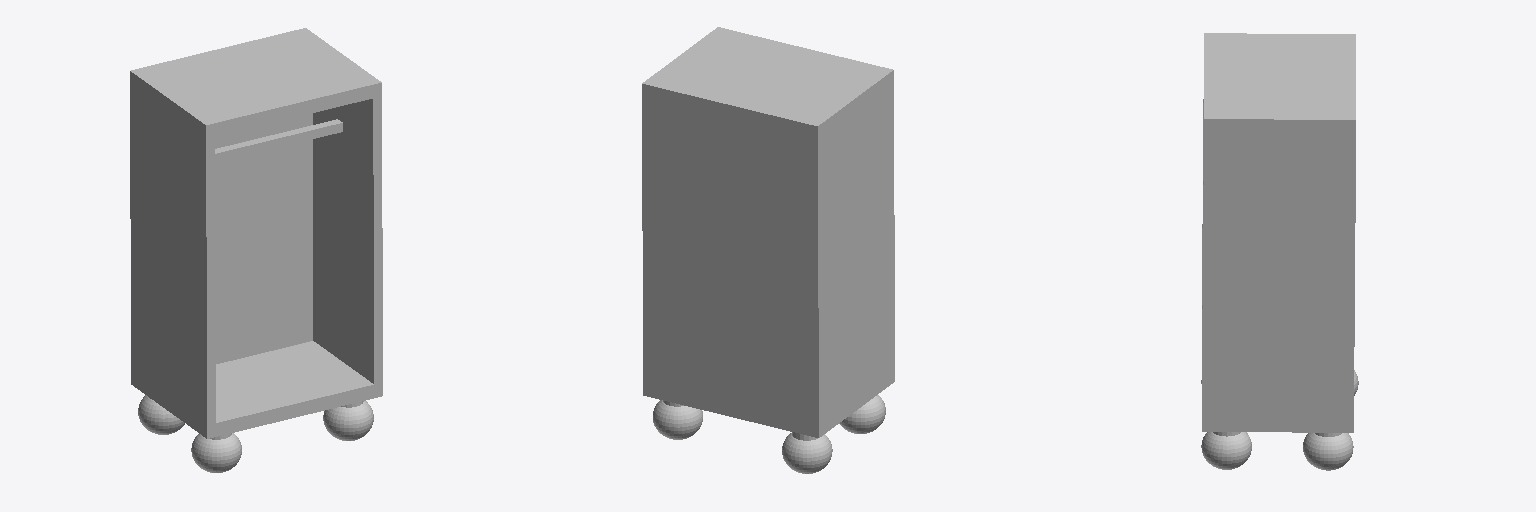
File: wardrobe.obj
3 views of the same model, side by side, from view 1: azimuth 30°, elevation 25°; view 2: azimuth 150°, elevation 25°; view 3: azimuth 270°, elevation 25° (orthographic).
Parts seen in each view (by area): view 1: obj_0; view 2: obj_0; view 3: obj_0.
Part boxes in pixels (x1,y1,x2,y2): obj_0: (130,28,382,472); obj_0: (642,27,894,473); obj_0: (1201,33,1358,470).
Size of the model in its own units: 40 by 78.19 by 31.